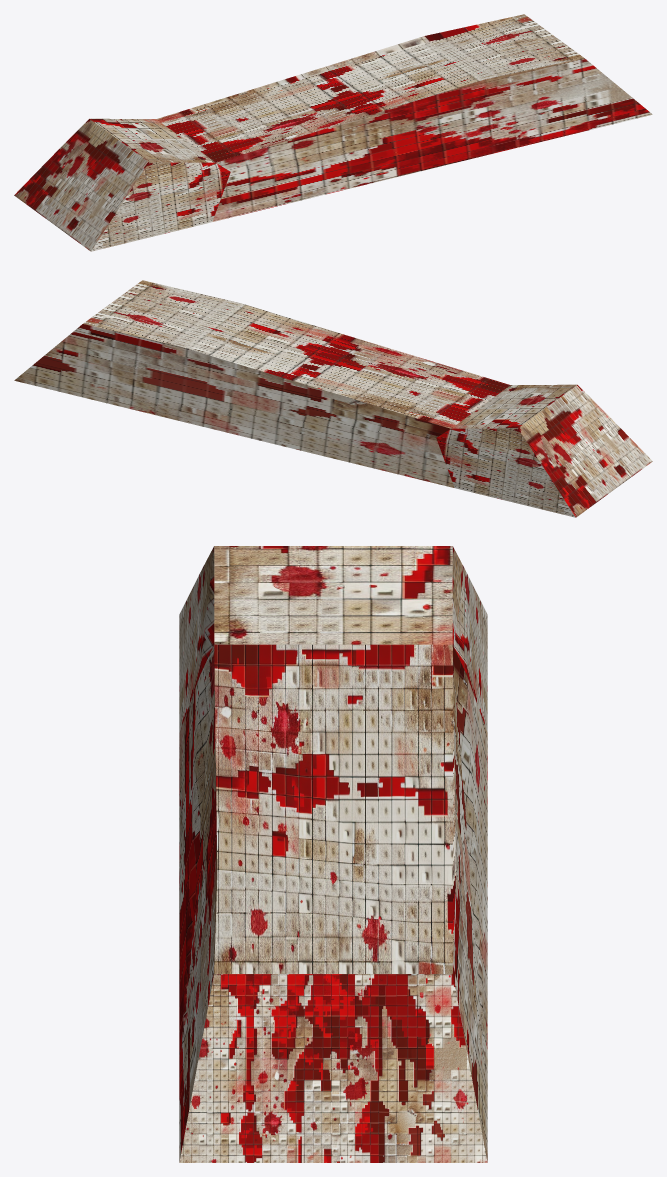
File: body.fbx
The picture shows the model from 3 angles, top to bottom: view 1: azimuth 30°, elevation 25°; view 2: azimuth 150°, elevation 25°; view 3: azimuth 270°, elevation 25°; orthographic projection. The views are drawn at different scales.
Parts seen in each view (by area): view 1: corpse; view 2: corpse; view 3: corpse.
Part boxes in pixels (left/top/right/bottom): corpse: left=14, top=14, right=652, bottom=251; corpse: left=14, top=280, right=652, bottom=517; corpse: left=179, top=546, right=487, bottom=1162.
Size of the model in its own units: 227 by 25.89 by 54.01.
